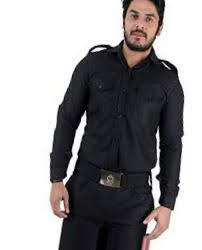uniform: (50, 45, 185, 246)
